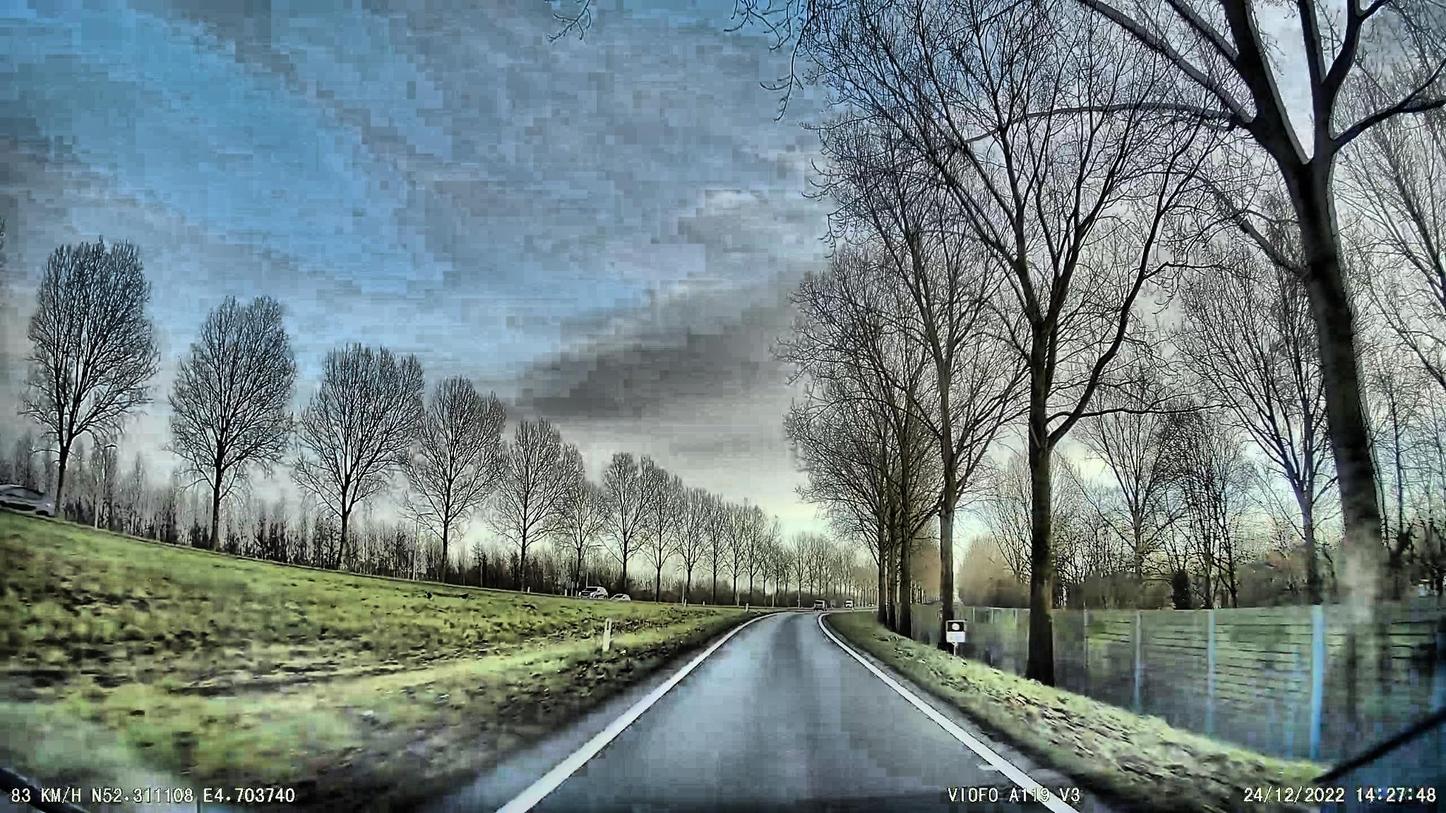Roads: (384, 613, 1139, 813)
